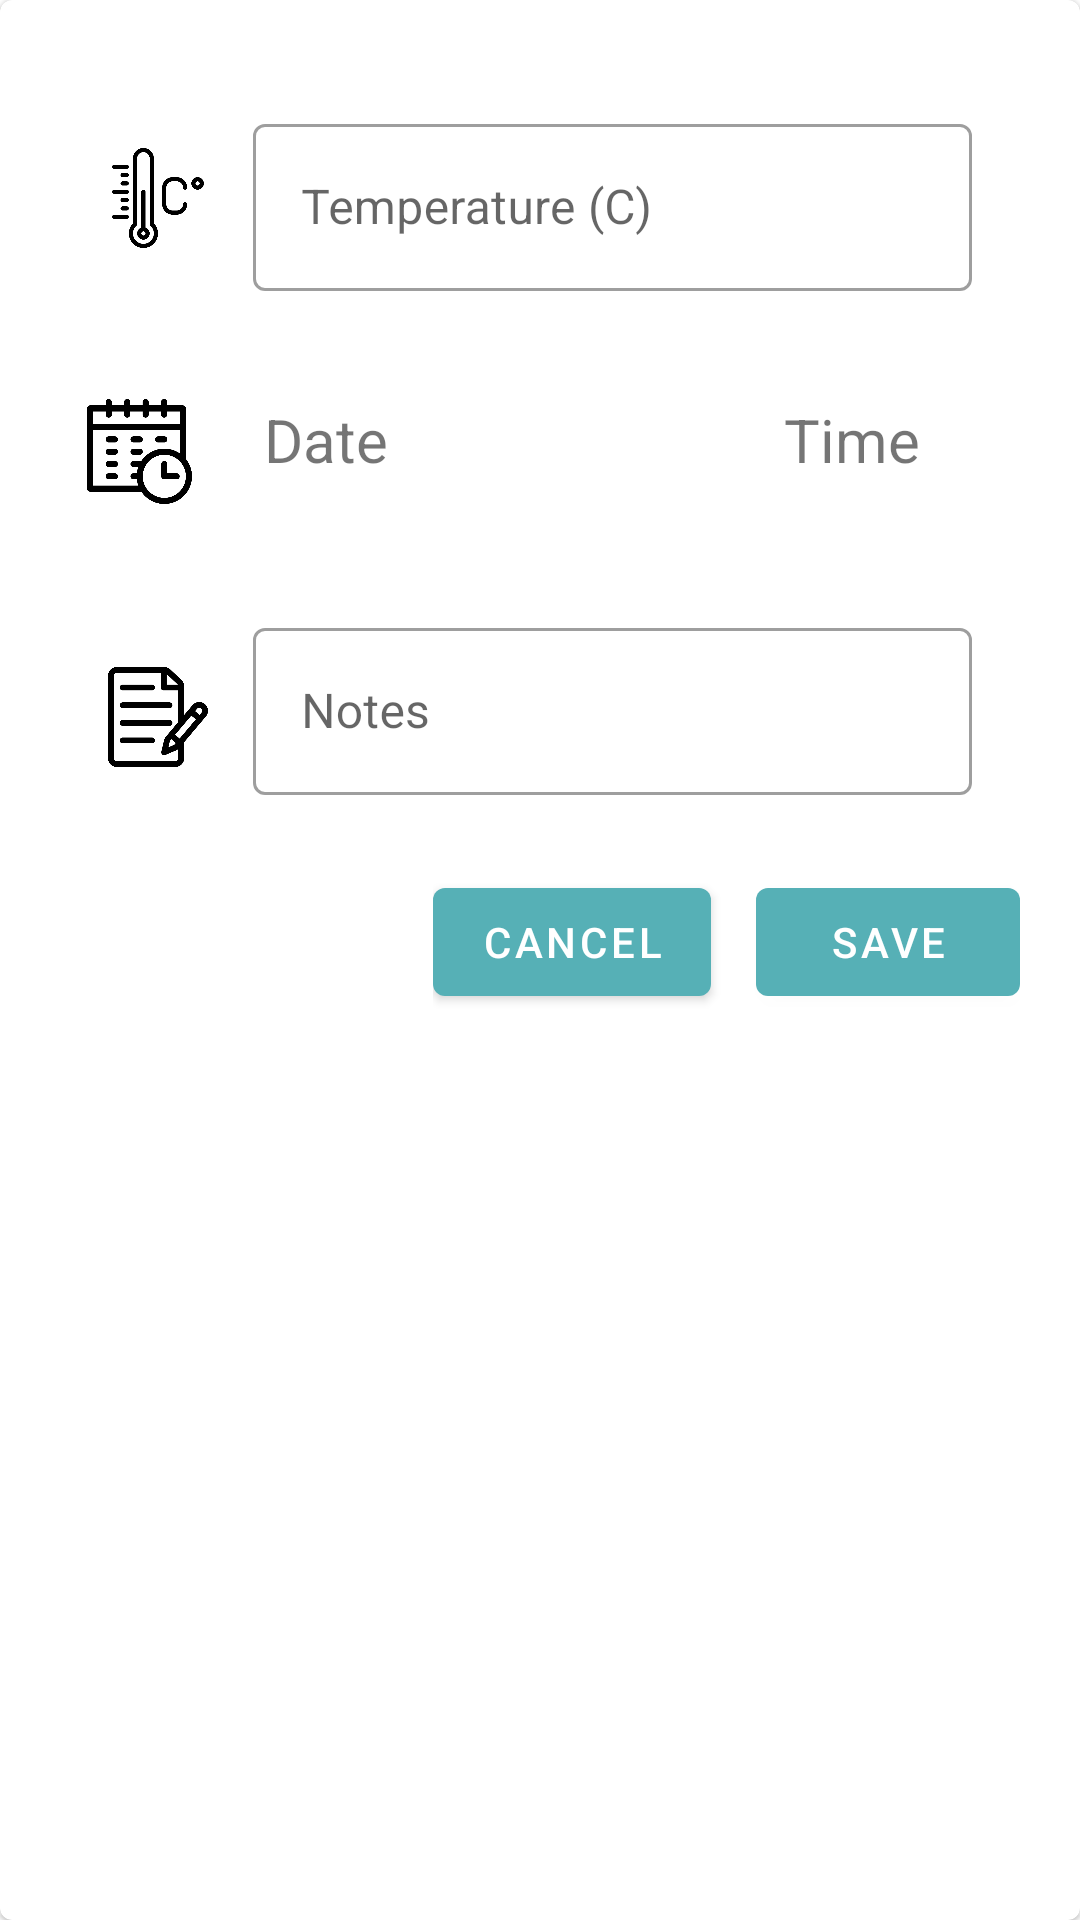

Icon click points for this 1080*1920 phone screenshot, format (x=x, y=y):
clock: (x=139, y=451)
